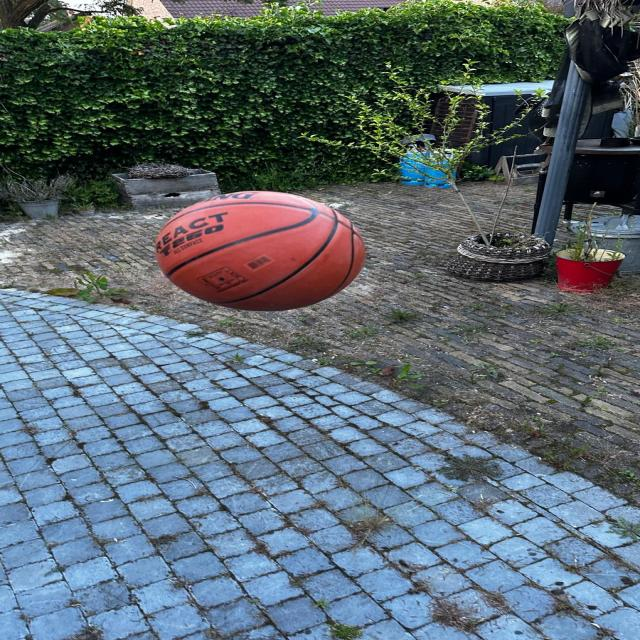Basketball: (160, 190, 367, 310)
